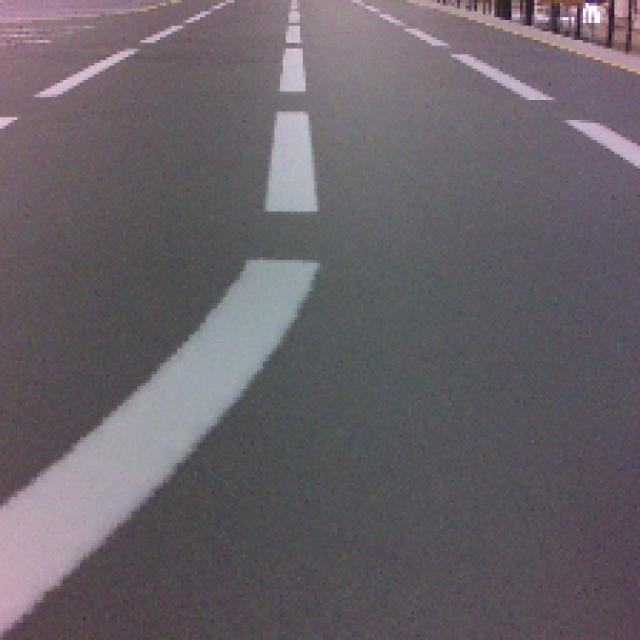Guard rail: (0, 258, 322, 638)
